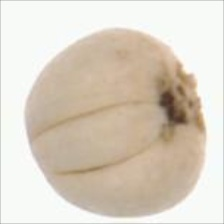L5: (29, 99, 167, 176), (154, 59, 208, 143)
L6: (23, 26, 208, 218)
